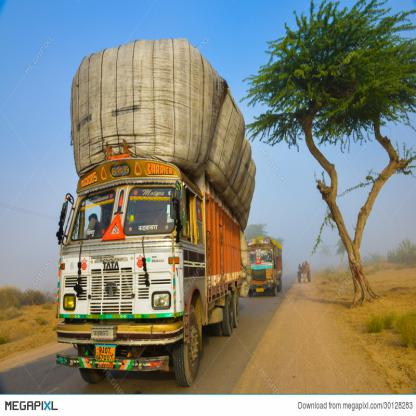overloaded-truck: (62, 48, 250, 192)
